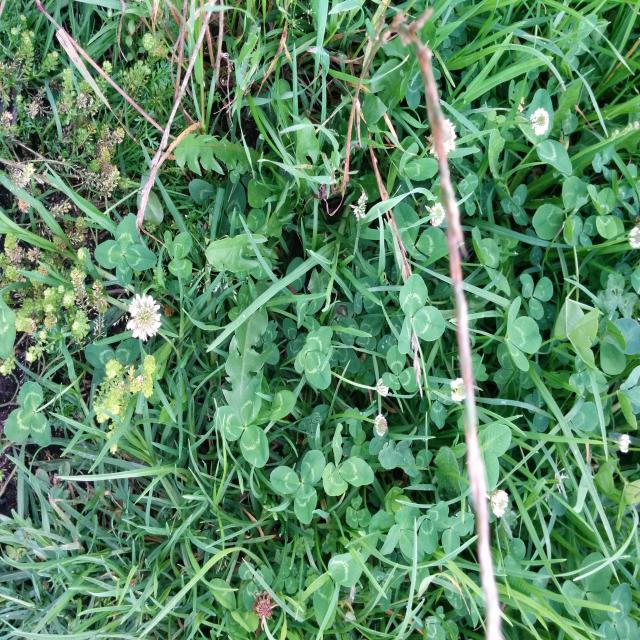Four Leaf Clover: (95, 212, 157, 287)
